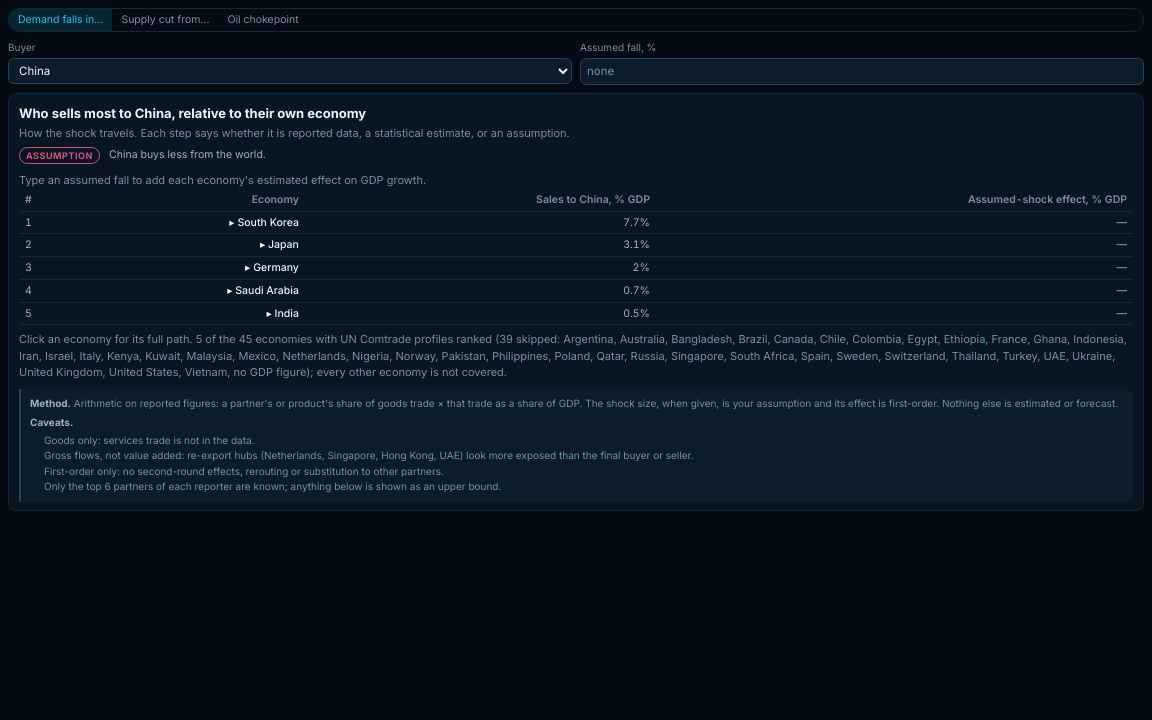
Test case: ExposurePanel › opens an economy to show its own path, with observed steps and their source
Click the column heading "▸ Germany" at (188, 268), box [72,257,305,279]
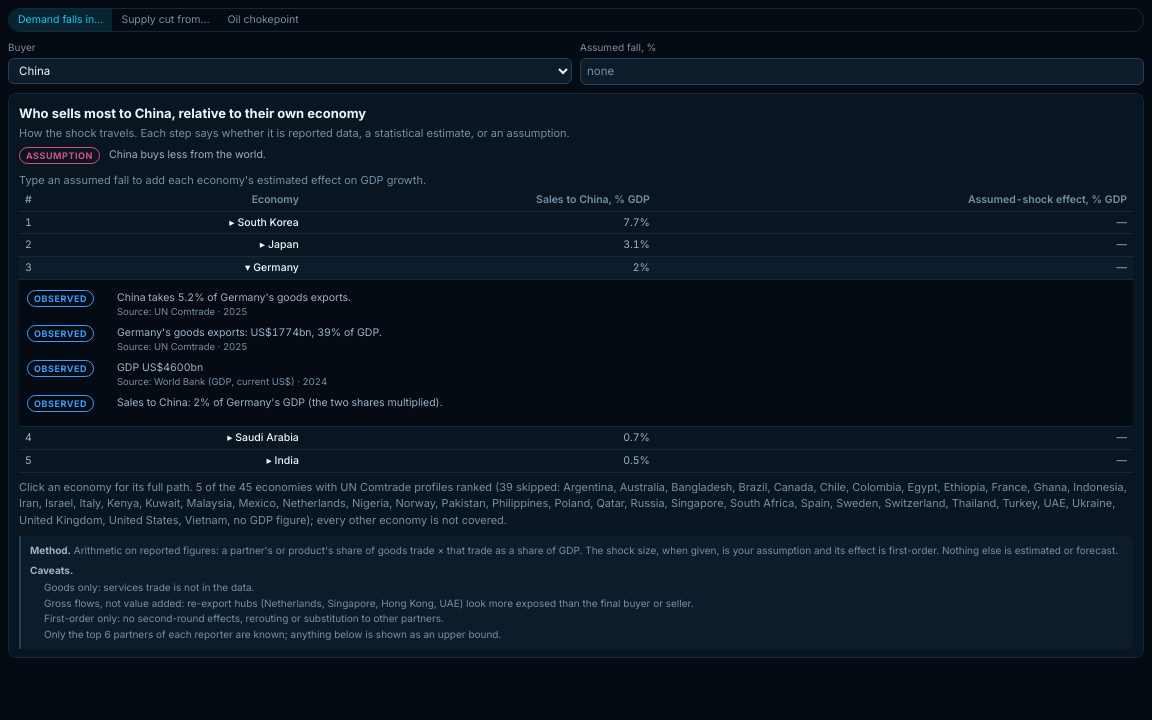
Now the 1st text "Source: UN Comtrade" is shown, box [117,306,215,317]
